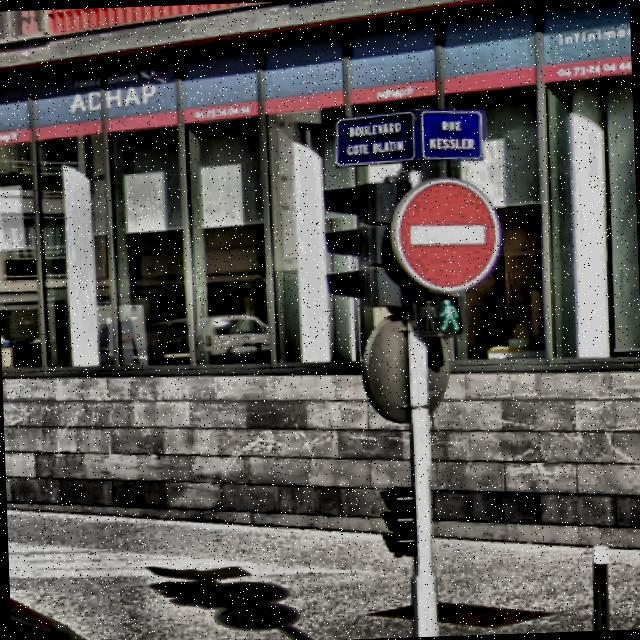green_light: (433, 292, 462, 333)
